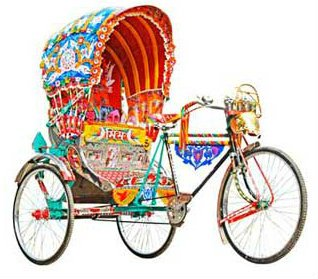Rickshaw: (10, 9, 301, 260)
